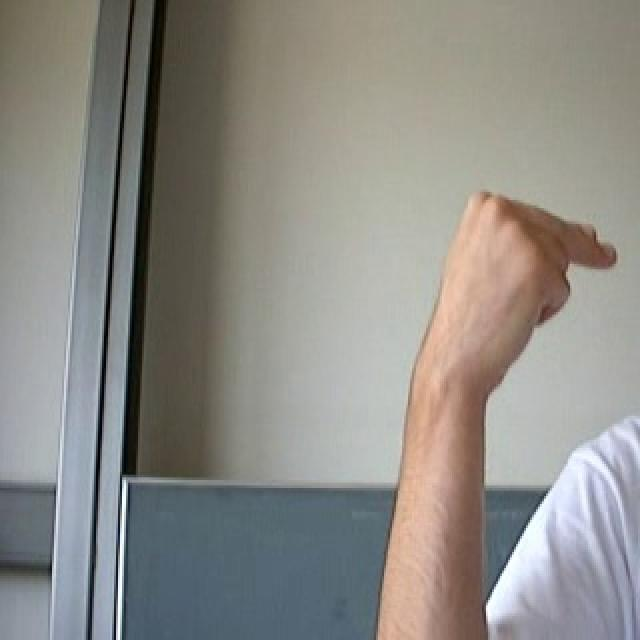H: (401, 162, 629, 399)
